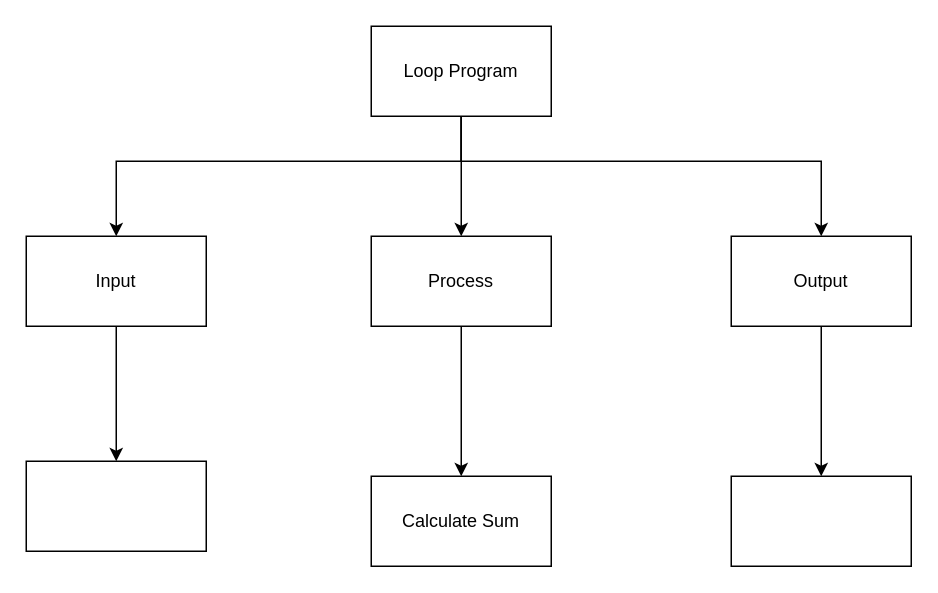
Image size: 938x593. Some labels were removed from this diagram. Here are the shapes that lost their labels. From the top down, the centre of each, then its label:
At [115,505]: "Get Number".
At [820,520]: "Show Sum".
